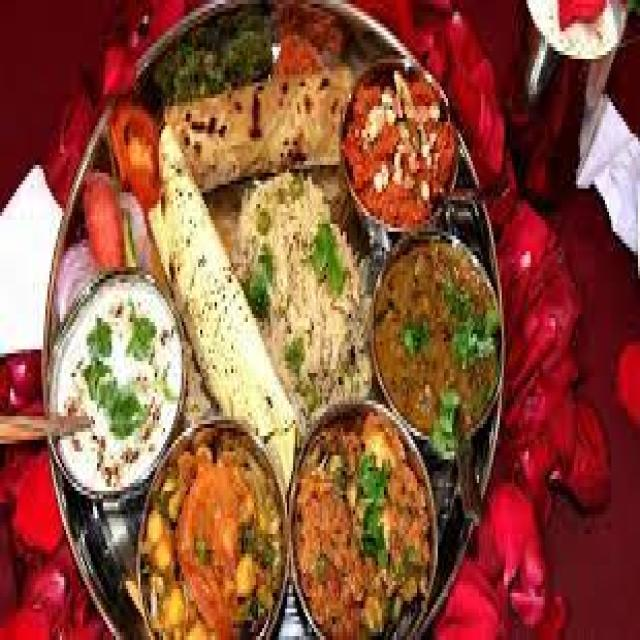raita: (43, 250, 192, 501)
rice: (240, 156, 385, 429), (48, 250, 187, 505)
roti: (153, 5, 358, 227)
veg-fry: (141, 406, 294, 640)
